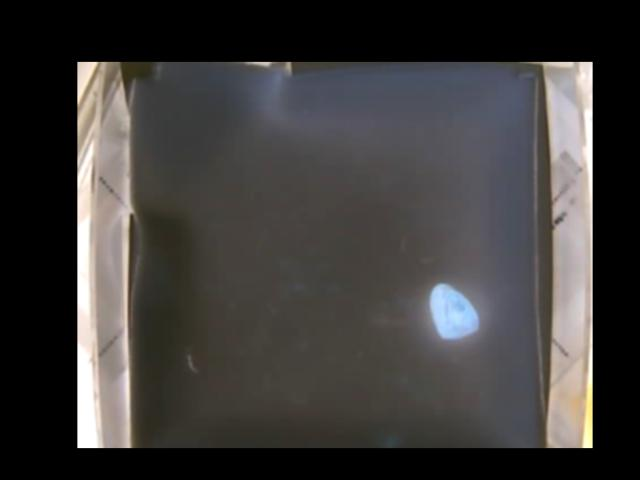Pebble: (430, 281, 479, 341)
